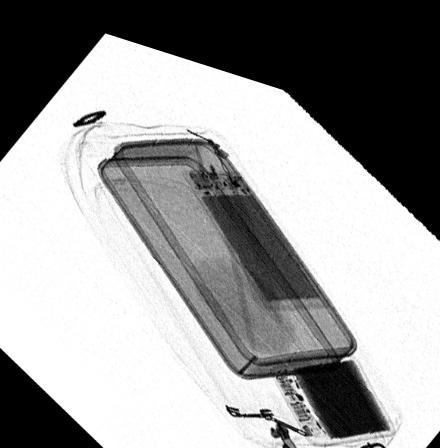Powerbank: (180, 148, 329, 293), (267, 333, 395, 424)
